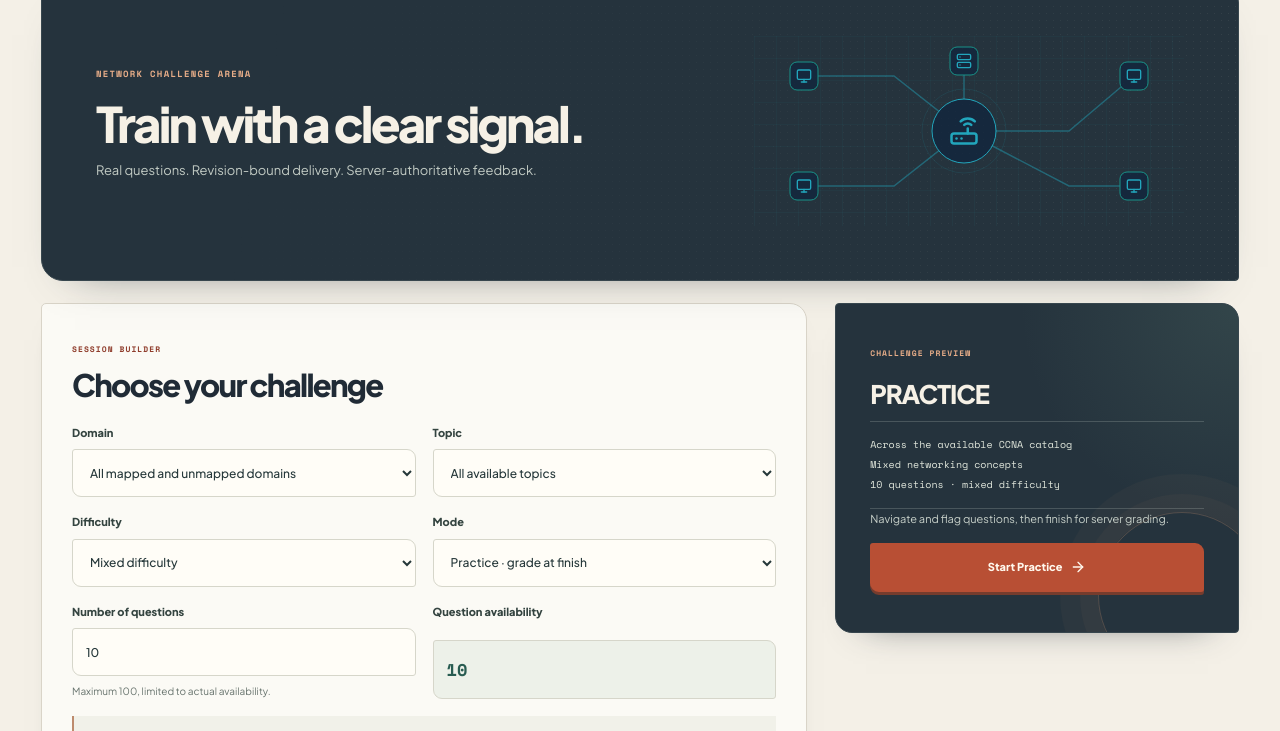
it: persists selection before Learn grading and displays only server feedback
Select "Learn · immediate feedback" in the dropdown labelled "Mode" at [604, 563], box [433,539,776,587]
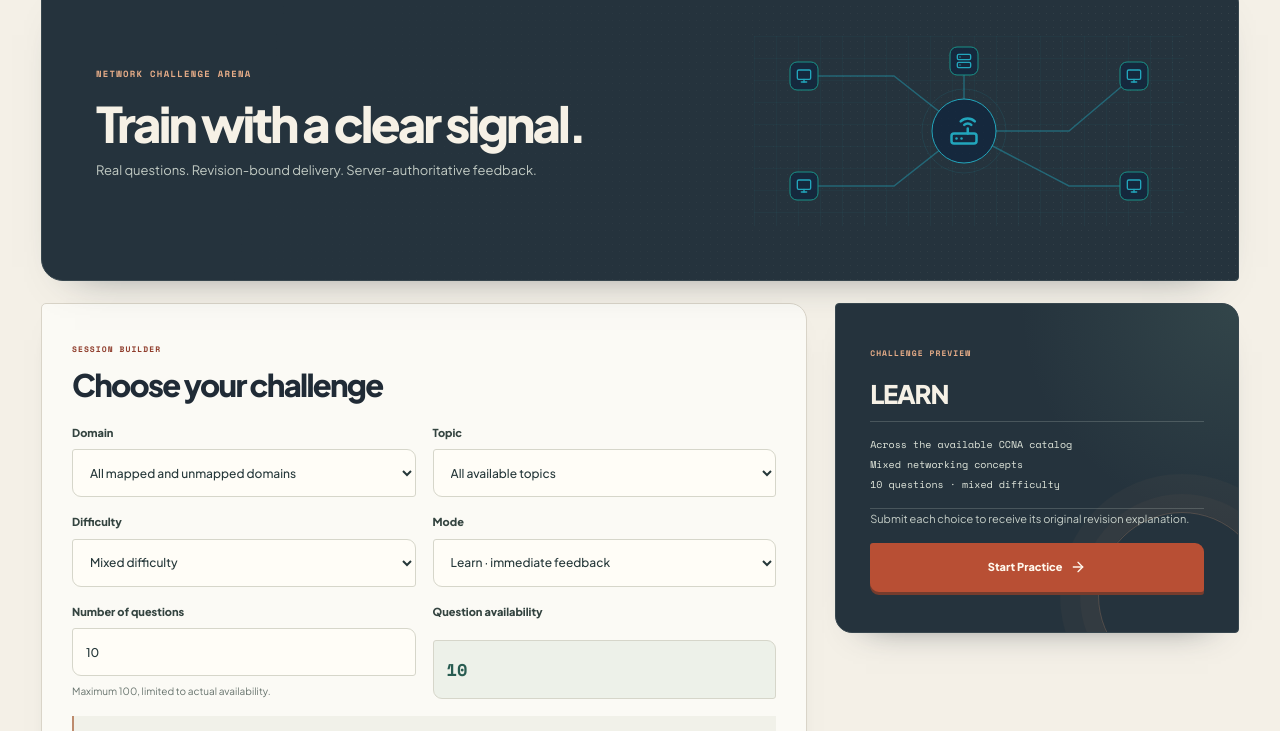
Click the button "Start Practice" at [1037, 567], box [870,543,1204,592]
(page scrolled)
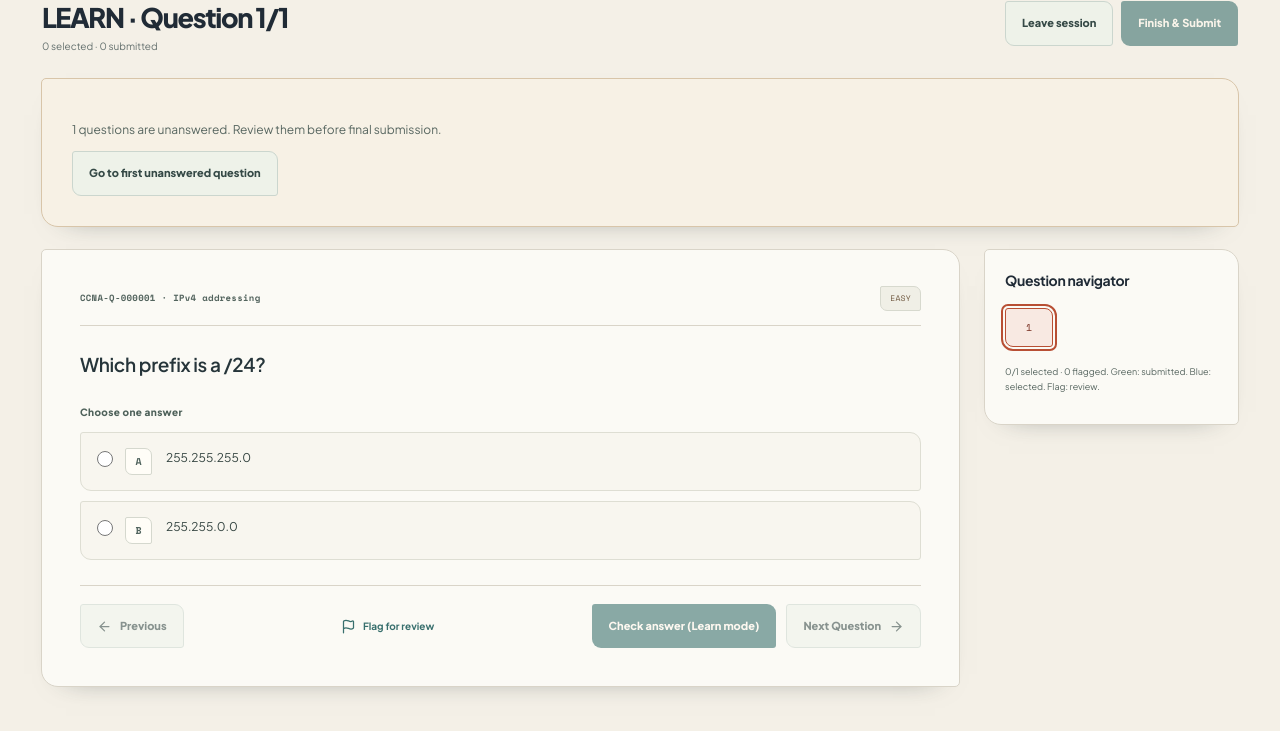
Click the radio button labelled "A 255.255.255.0" at [105, 459], box [97,451,113,467]
(page scrolled)
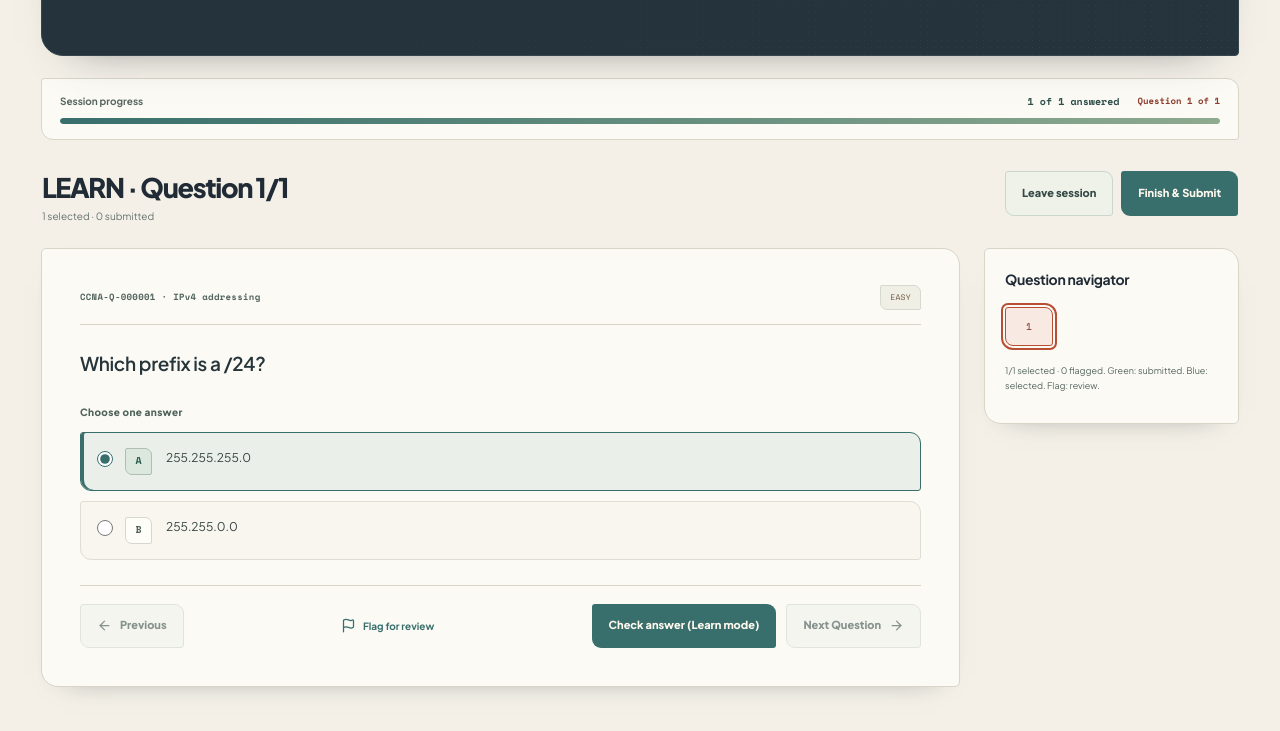
Now the button "Check answer (Learn mode)" is shown
Click the button "Check answer (Learn mode)" at [684, 626], box [592,604,776,648]
(page scrolled)
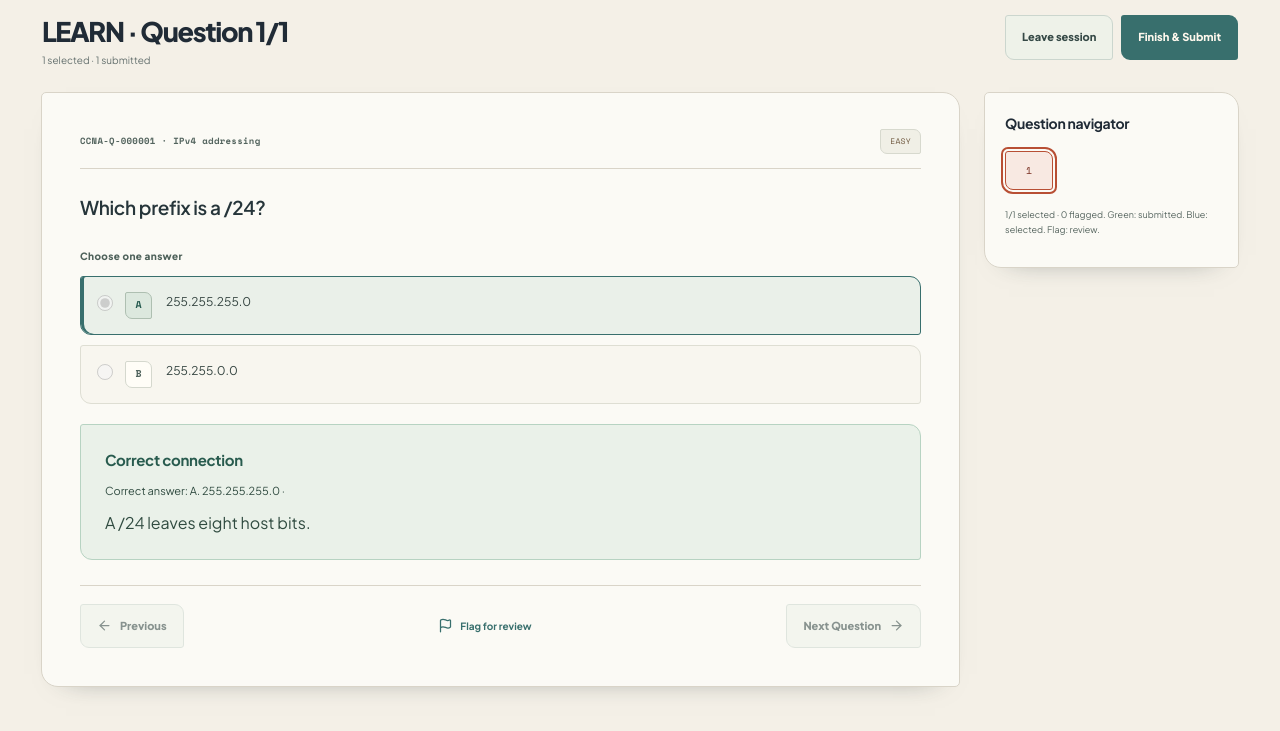
Now the text "A /24 leaves eight host bits" is shown, box [105,512,311,533]
